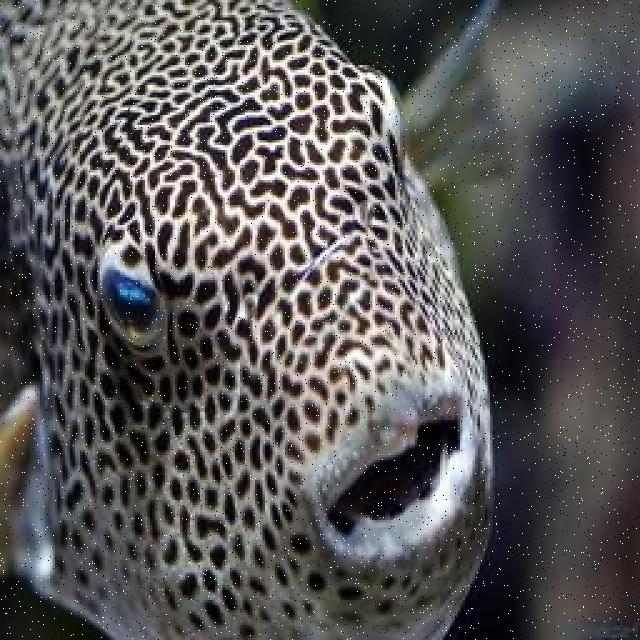fish: (0, 0, 521, 637)
